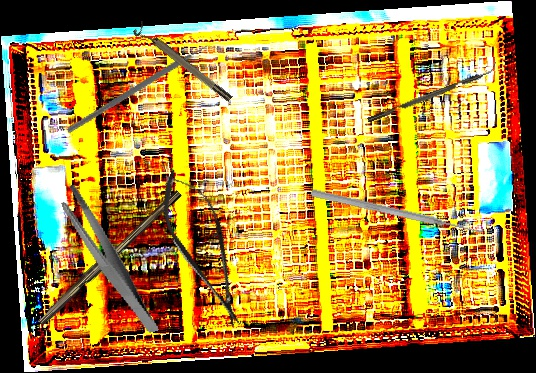Chopper: (66, 2, 223, 178), (364, 61, 500, 123)
Dressing Forceps: (57, 173, 159, 347)
Fixation Ring: (132, 20, 234, 108)
Micro Scissor: (146, 160, 262, 337)
Pusher: (310, 187, 483, 238)
Scalpel Handle: (34, 185, 183, 329)
